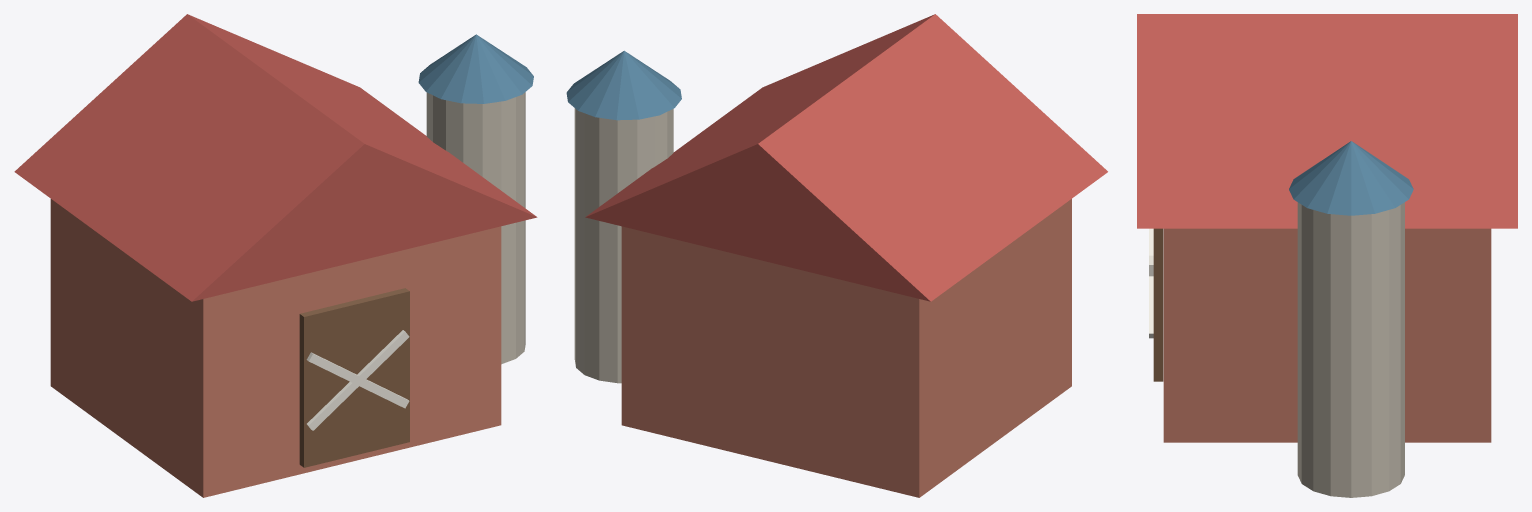
Rendered from farm-barn-LHN75Iht.glb.
3 renders of one model, left to right at view 1: azimuth 30°, elevation 25°; view 2: azimuth 150°, elevation 25°; view 3: azimuth 270°, elevation 25°, orthographic. The views are drawn at different scales.
Parts seen in each view (by area): view 1: Barn_Roof, Barn_Main, Barn_Door, Barn_Silo, Barn_Silo_Roof, Barn_Cross_B, Barn_Cross_A; view 2: Barn_Main, Barn_Roof, Barn_Silo, Barn_Silo_Roof; view 3: Barn_Roof, Barn_Main, Barn_Silo, Barn_Silo_Roof, Barn_Door, Barn_Cross_A.
Boxes of the visible parts, x1,y1,x2,y2 form: Barn_Roof: (14, 14, 537, 301); Barn_Main: (50, 199, 501, 497); Barn_Door: (299, 288, 409, 467); Barn_Silo: (426, 92, 525, 364); Barn_Silo_Roof: (418, 34, 533, 103); Barn_Cross_B: (307, 330, 409, 430); Barn_Cross_A: (306, 352, 409, 408); Barn_Main: (621, 199, 1071, 497); Barn_Roof: (585, 14, 1107, 301); Barn_Silo: (574, 108, 673, 383); Barn_Silo_Roof: (566, 50, 681, 120); Barn_Roof: (1137, 14, 1517, 228); Barn_Main: (1163, 228, 1491, 442); Barn_Silo: (1297, 202, 1404, 497); Barn_Silo_Roof: (1289, 141, 1413, 215); Barn_Door: (1153, 228, 1163, 381); Barn_Cross_A: (1149, 228, 1153, 338).
Bounding box in the file's own units: 9.05 × 6.5 × 6.4.
